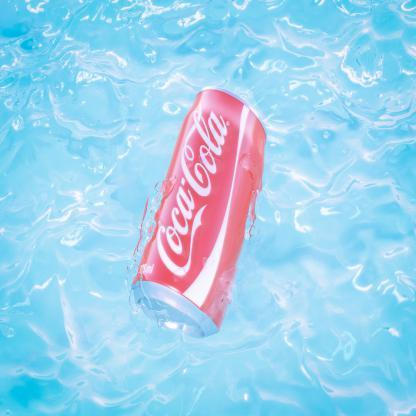can: (130, 87, 269, 340)
